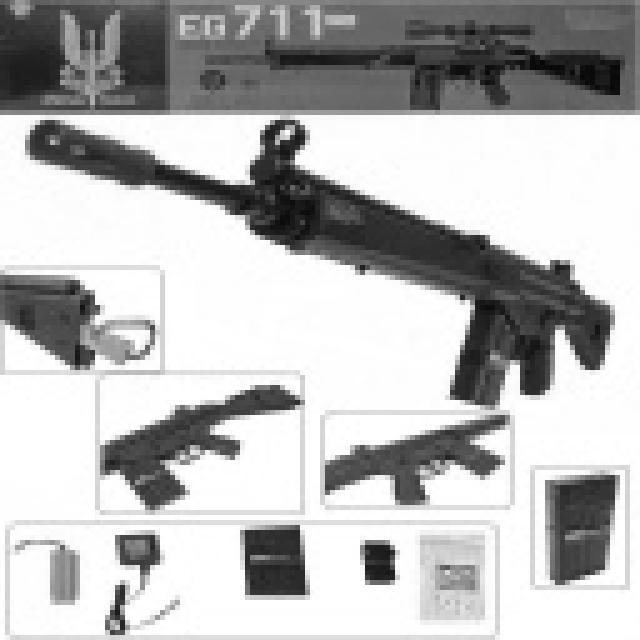Rifle: (0, 119, 640, 404), (191, 0, 640, 115), (62, 357, 314, 526), (310, 386, 526, 524)
